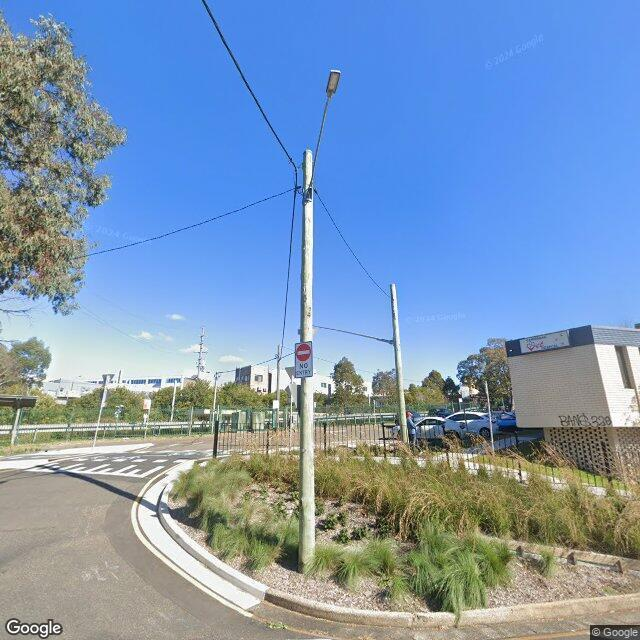streetlight: (306, 70, 342, 202)
timber-pole: (298, 150, 315, 572), (390, 281, 409, 445), (276, 344, 281, 458), (210, 372, 218, 432)
